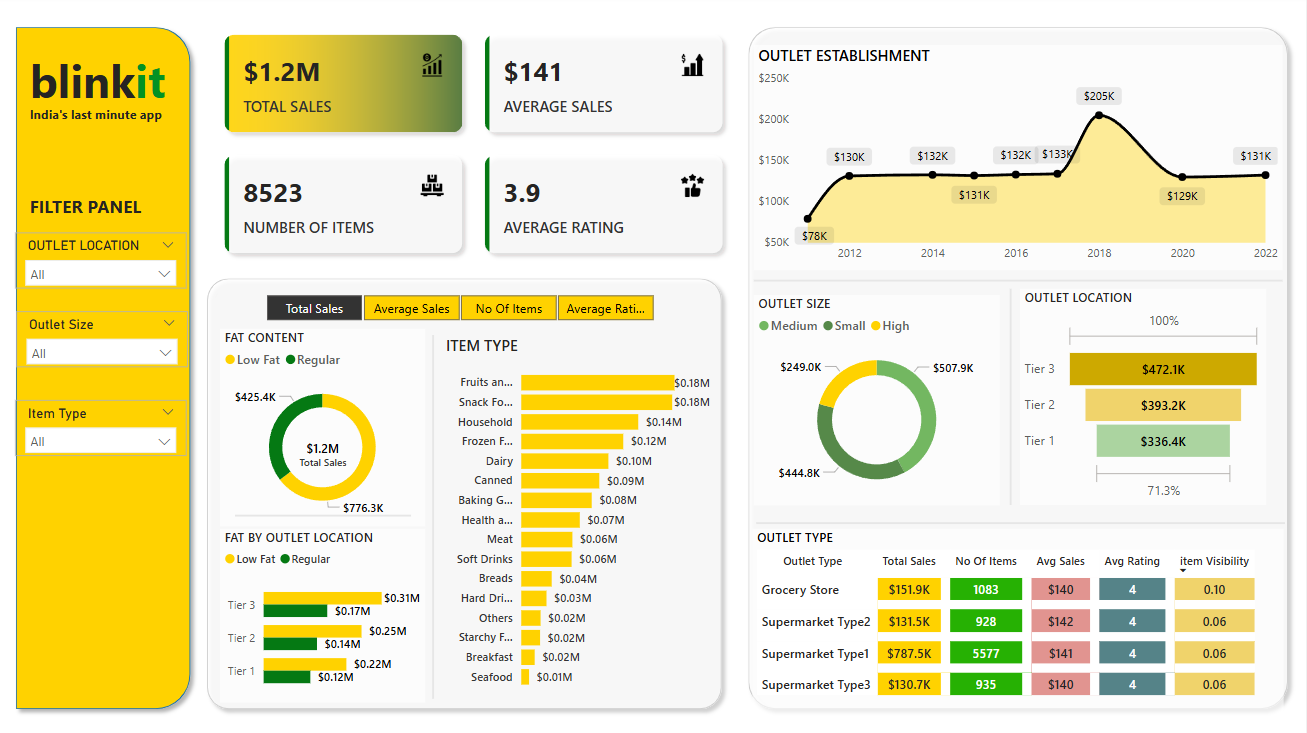

Layout of this report page (visuals, bound fields, positions):
{"tool":"powerbi","page":{"name":"Page 1","canvas":[1400,800],"ordinal":0},"visuals":[{"type":"shape","box":[8,25.5,205.1,749.3],"z":0},{"type":"textbox","box":[26.8,53.6,172.9,76.4],"z":1000},{"type":"textbox","box":[26.8,113.9,172.9,30.8],"z":2000},{"type":"cardVisual","fields":{"Data":["BlinkIT Grocery Data.Total Sales","BlinkIT Grocery Data.Average Sales","BlinkIT Grocery Data.No Of Items","BlinkIT Grocery Data.Average Rating"]},"box":[223.9,25.5,569.7,269.4],"z":3000},{"type":"shape","box":[213.1,294.9,569.7,479.9],"z":4000},{"type":"slicer","fields":{"Values":["Metrics.Metrics"]},"box":[260.1,315,465,40],"z":5000},{"type":"donutChart","title":"FAT CONTENT","fields":{"Y":["BlinkIT Grocery Data.Total Sales"],"Category":["BlinkIT Grocery Data.Item Fat Content"]},"box":[235.9,357.9,219.8,211.8],"z":6000},{"type":"cardVisual","fields":{"Data":["BlinkIT Grocery Data.Total Sales"]},"box":[300.3,459.8,92.5,59],"z":7000},{"type":"clusteredBarChart","title":"FAT BY OUTLET LOCATION","fields":{"Y":["BlinkIT Grocery Data.Total Sales"],"Category":["BlinkIT Grocery Data.Outlet Location Type"],"Series":["BlinkIT Grocery Data.Item Fat Content"]},"box":[235.9,572.4,219.8,186.3],"z":8000},{"type":"shape","box":[252,546.9,189,22.8],"z":9000},{"type":"shape","box":[455.8,364.6,17.4,390.1],"z":10000},{"type":"barChart","title":"ITEM TYPE","fields":{"Y":["BlinkIT Grocery Data.Total Sales"],"Category":["BlinkIT Grocery Data.Item Type"]},"box":[473.2,364.6,293.6,388.7],"z":11000},{"type":"shape","box":[793.6,25.5,596.5,749.3],"z":12000},{"type":"lineChart","title":"OUTLET ESTABLISHMENT","fields":{"Category":["BlinkIT Grocery Data.Outlet Establishment Year"],"Y":["BlinkIT Grocery Data.Total Sales"]},"box":[808.3,53.6,567,241.3],"z":13000},{"type":"shape","box":[808.3,300.3,567,12.1],"z":14000},{"type":"donutChart","title":"OUTLET SIZE","fields":{"Y":["BlinkIT Grocery Data.Total Sales"],"Category":["BlinkIT Grocery Data.Outlet Size"]},"box":[808.3,321.7,264.1,225.2],"z":15000},{"type":"shape","box":[1075.1,315,17.4,231.9],"z":16000},{"type":"funnel","title":"OUTLET LOCATION","fields":{"Y":["BlinkIT Grocery Data.Total Sales"],"Category":["BlinkIT Grocery Data.Outlet Location Type"]},"box":[1093.8,315,264.1,231.9],"z":17000},{"type":"shape","box":[811,560.3,567,12.1],"z":18000},{"type":"pivotTable","title":"OUTLET TYPE","fields":{"Rows":["BlinkIT Grocery Data.Outlet Type"],"Values":["BlinkIT Grocery Data.Total Sales","BlinkIT Grocery Data.No Of Items","BlinkIT Grocery Data.Average Sales","BlinkIT Grocery Data.Average Rating","Avg(BlinkIT Grocery Data.Item Visibility)"]},"box":[807,572.4,569.7,202.4],"z":19000},{"type":"slicer","title":"OUTLET LOCATION","fields":{"Values":["BlinkIT Grocery Data.Outlet Location Type"]},"box":[16.1,254.7,183.6,60.3],"z":20000},{"type":"slicer","title":"OUTLET LOCATION","fields":{"Values":["BlinkIT Grocery Data.Outlet Size"]},"box":[17.4,339.1,183.6,60.3],"z":21000},{"type":"slicer","title":"OUTLET LOCATION","fields":{"Values":["BlinkIT Grocery Data.Item Type"]},"box":[16.1,434.3,183.6,60.3],"z":22000},{"type":"textbox","box":[26.8,209.1,143.4,45.6],"z":23000}]}

Visuals, with their boxes in screenshot pixels (x1, y1, x2, y2), scaled from the page's 1400x800 canvas onto the 1307x733 screenshot:
shape: 7:23:199:710
textbox: 25:49:186:119
textbox: 25:104:186:133
cardVisual - BlinkIT Grocery Data.Total Sales x BlinkIT Grocery Data.Average Sales: 209:23:741:270
shape: 199:270:731:710
slicer - Metrics.Metrics: 243:289:677:325
"FAT CONTENT" donutChart: 220:328:425:522
cardVisual - BlinkIT Grocery Data.Total Sales: 280:421:367:475
"FAT BY OUTLET LOCATION" clusteredBarChart: 220:524:425:695
shape: 235:501:412:522
shape: 426:334:442:691
"ITEM TYPE" barChart: 442:334:716:690
shape: 741:23:1298:710
"OUTLET ESTABLISHMENT" lineChart: 755:49:1284:270
shape: 755:275:1284:286
"OUTLET SIZE" donutChart: 755:295:1001:501
shape: 1004:289:1020:501
"OUTLET LOCATION" funnel: 1021:289:1268:501
shape: 757:513:1286:524
"OUTLET TYPE" pivotTable: 753:524:1285:710
"OUTLET LOCATION" slicer: 15:233:186:289
"OUTLET LOCATION" slicer: 16:311:188:366
"OUTLET LOCATION" slicer: 15:398:186:453
textbox: 25:192:159:233
